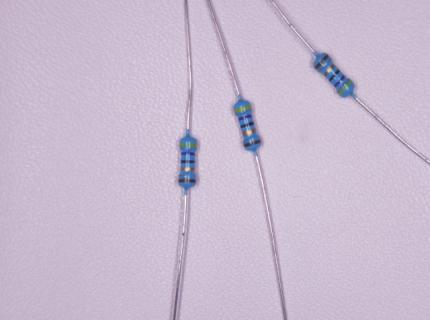Gold band: (323, 63, 336, 77), (242, 128, 256, 136), (181, 167, 195, 171)
Violet band: (333, 75, 345, 88), (238, 114, 252, 121), (181, 152, 195, 155)
Yellow band: (339, 80, 352, 95), (234, 105, 251, 113), (179, 143, 197, 147)
